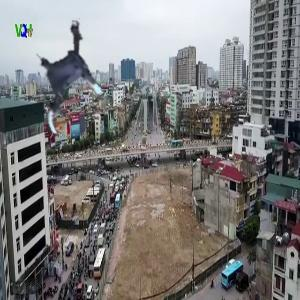drone: (18, 32, 123, 137)
